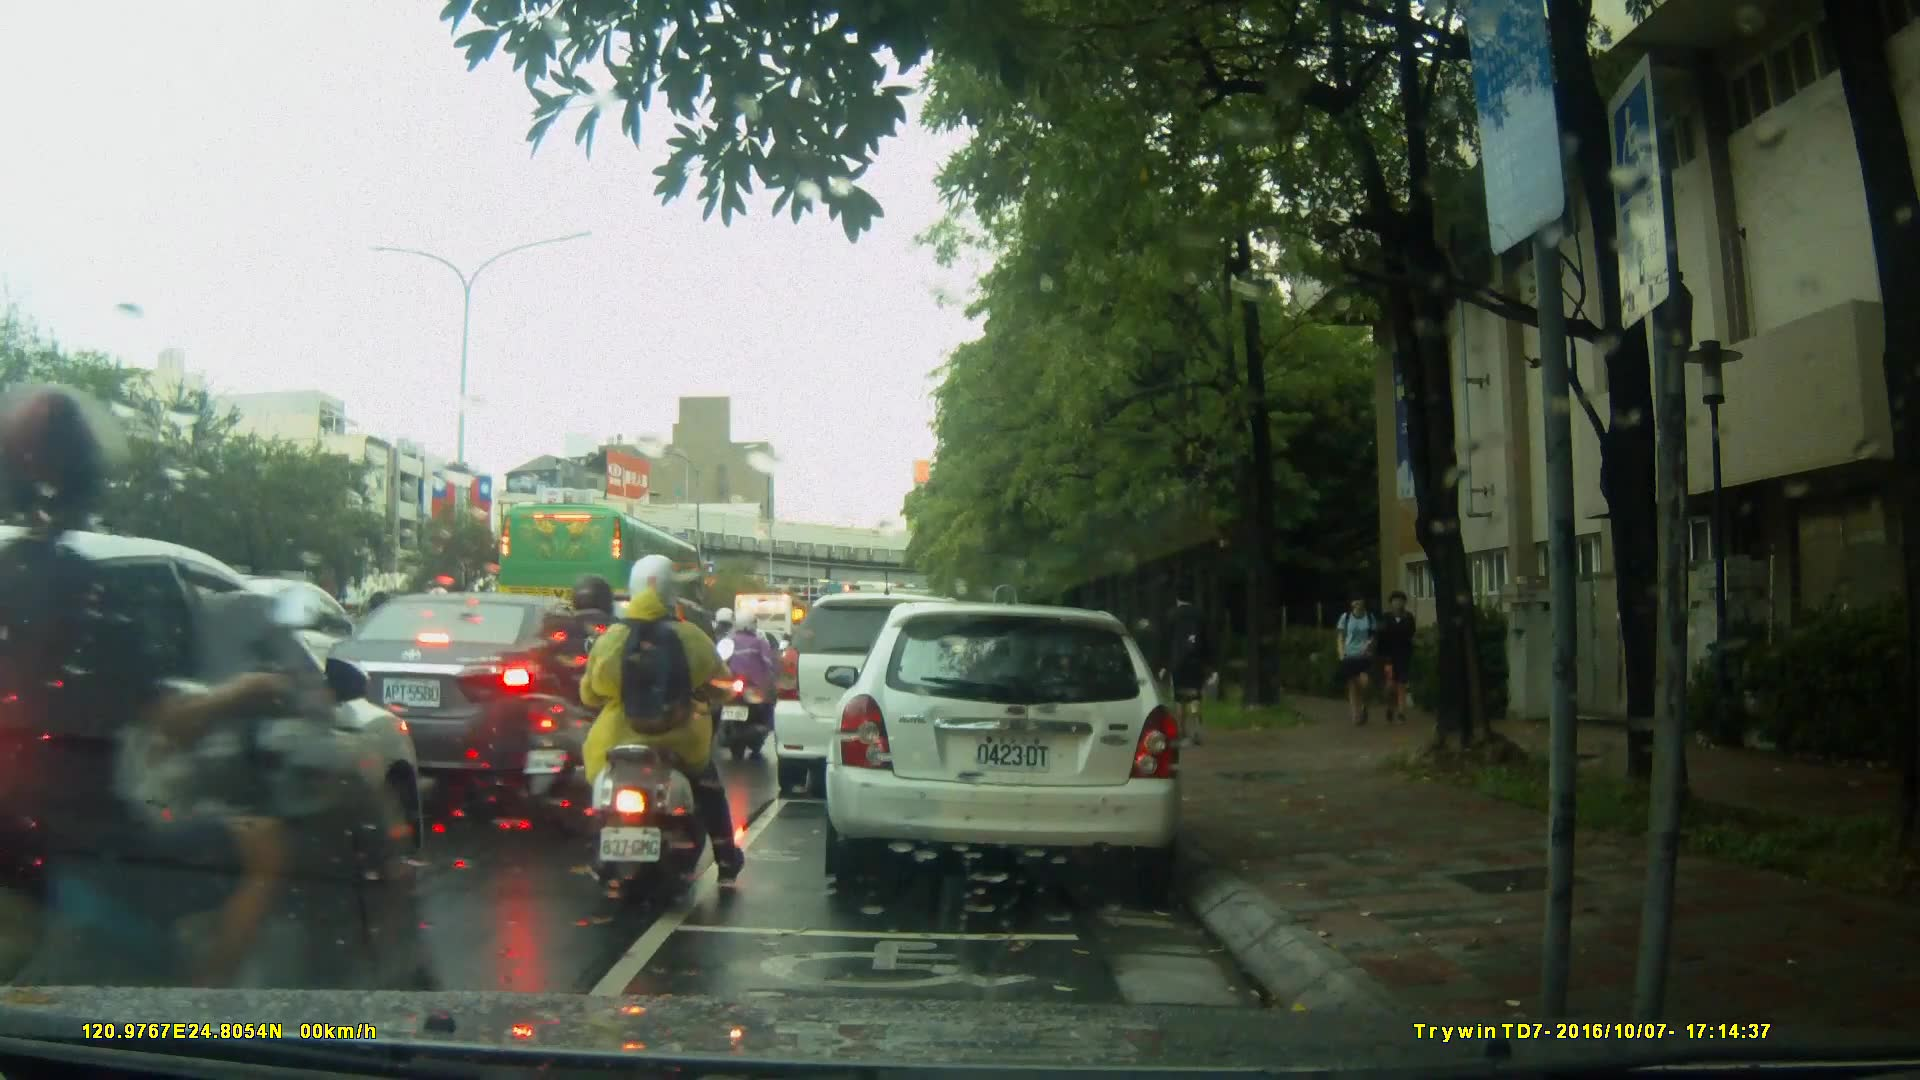pedestrian: (1156, 584, 1214, 752), (1329, 586, 1382, 735), (1376, 586, 1415, 731)
rider: (1, 375, 446, 1080), (585, 554, 747, 892), (521, 583, 684, 833), (721, 607, 788, 762)
vehicle: (1, 523, 427, 986), (831, 592, 1196, 897), (316, 594, 662, 799), (770, 592, 999, 800), (495, 502, 708, 640)
